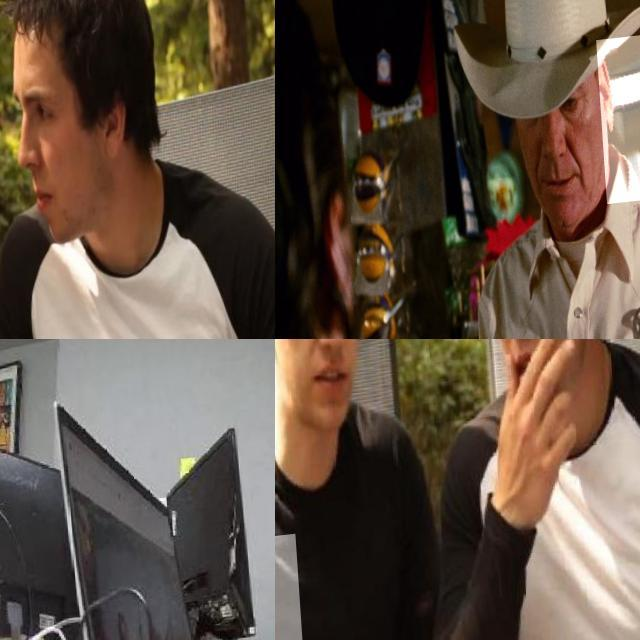-: (275, 537, 324, 640)
gun-knife-thesis - v11 Yolov5 augmented: (593, 40, 640, 215)
